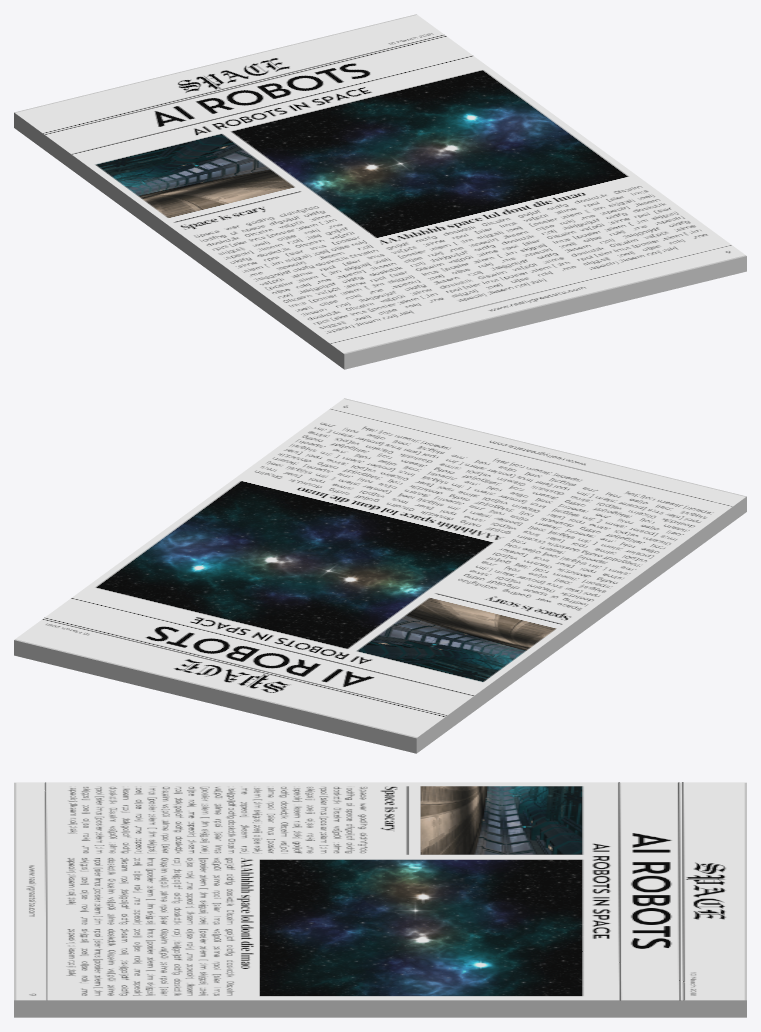
Rendered from Magazine.fbx.
3 renders of one model, top to bottom at view 1: azimuth 30°, elevation 25°; view 2: azimuth 150°, elevation 25°; view 3: azimuth 270°, elevation 25°, orthographic. The views are drawn at different scales.
Visible parts, largest first — view 1: rtrgrtg-1, Cube; view 2: rtrgrtg-1, Cube; view 3: rtrgrtg-1, Cube.
Part boxes in pixels (box(x1,y1,x2,y2)): rtrgrtg-1: box(15, 15, 745, 353); Cube: box(14, 14, 746, 369); rtrgrtg-1: box(15, 399, 745, 737); Cube: box(14, 398, 746, 753); rtrgrtg-1: box(16, 782, 744, 1000); Cube: box(14, 782, 746, 1017).
Bounding box in the file's own units: 21.41 × 0.7944 × 30.45.
